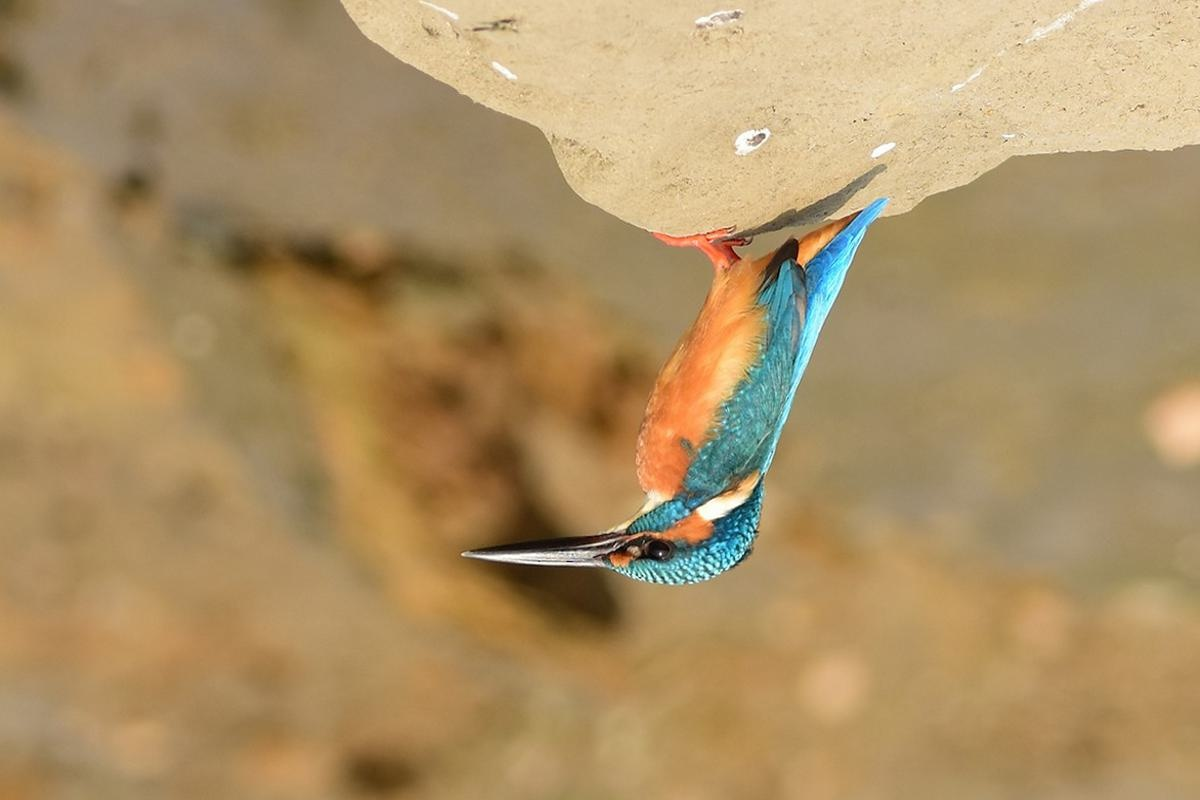kingfisher: (445, 192, 863, 598)
